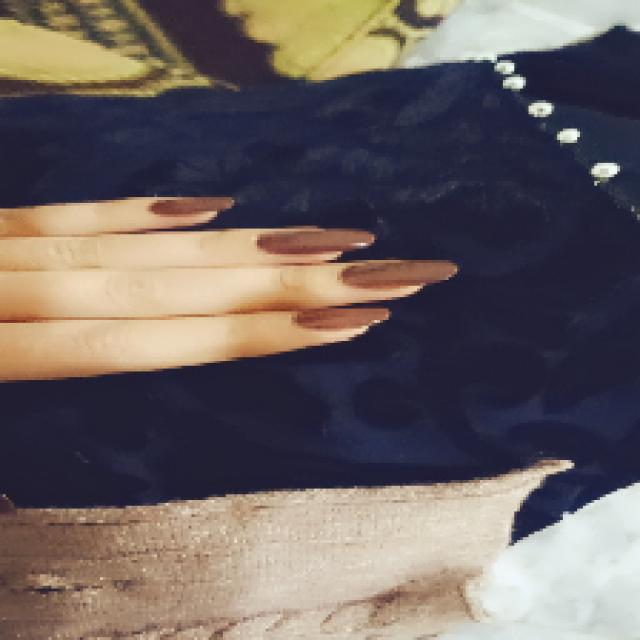Nail: (340, 260, 456, 289), (258, 230, 374, 254), (294, 309, 389, 329), (150, 198, 234, 215)
